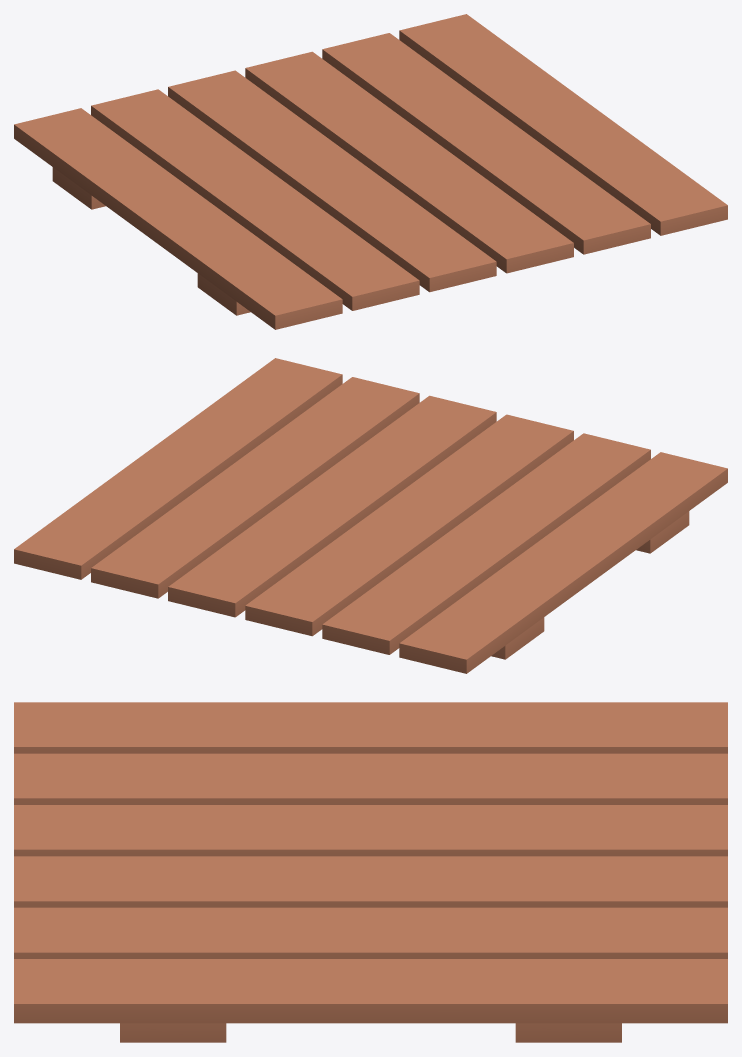
Rendered from planks.obj.
3 views of the same model, one above another, from view 1: azimuth 30°, elevation 25°; view 2: azimuth 150°, elevation 25°; view 3: azimuth 270°, elevation 25° (orthographic). The views are drawn at different scales.
Parts seen in each view (by area): view 1: planks; view 2: planks; view 3: planks.
Part boxes in pixels (x1=…): planks: x1=14, y1=14, x2=727, y2=329; planks: x1=14, y1=358, x2=727, y2=673; planks: x1=14, y1=702, x2=727, y2=1042.
Bounding box in the file's own units: 1 × 0.06 × 1.
Materials: 1 (1 with a texture image).
